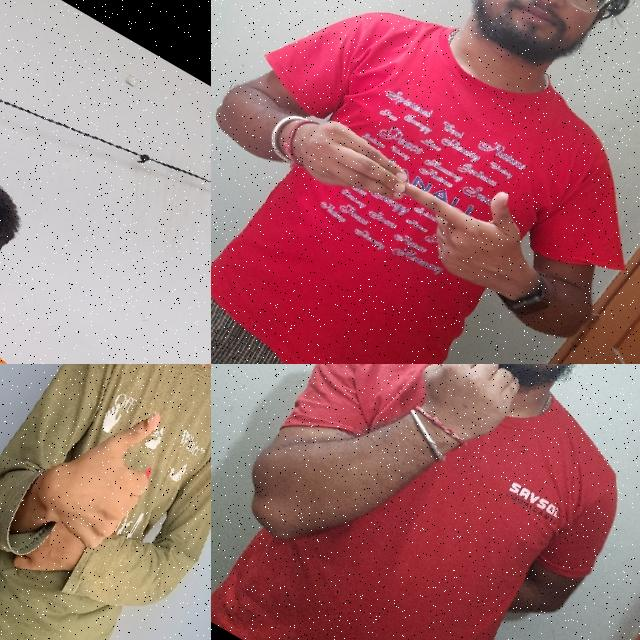Chin Flick: (387, 364, 640, 471)
Fist Mouth: (0, 130, 53, 364)
Five Fathers: (243, 68, 564, 322)
Thumbs Up: (18, 372, 196, 576)
